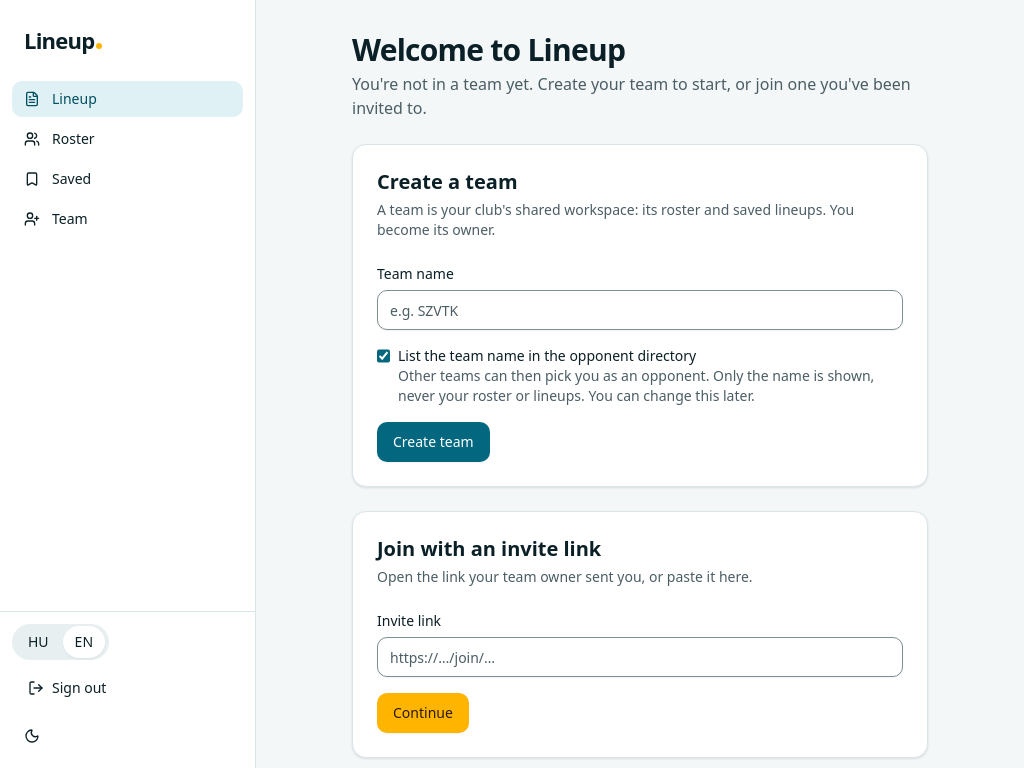
Test: pasting an invite link on the onboarding screen › rejects not a link before leaving the page
Type "not a link" into the field labelled "Invite link" at (640,657), box [377,637,903,677]
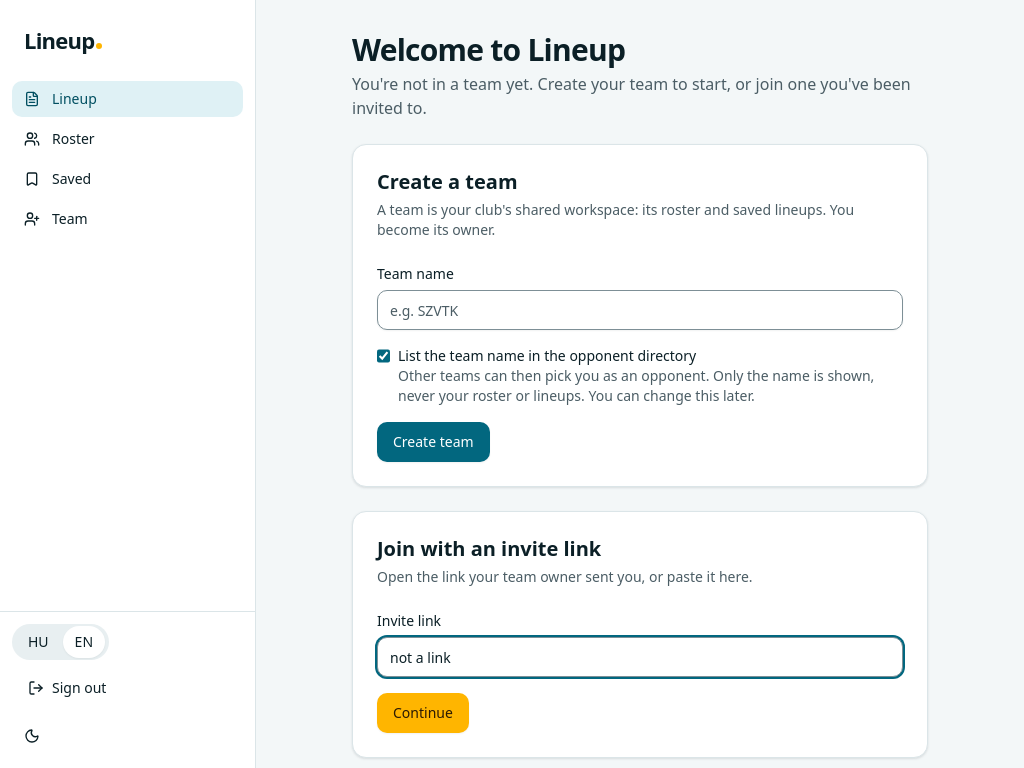
Click the button "Continue" at (423,713), box [377,693,469,733]
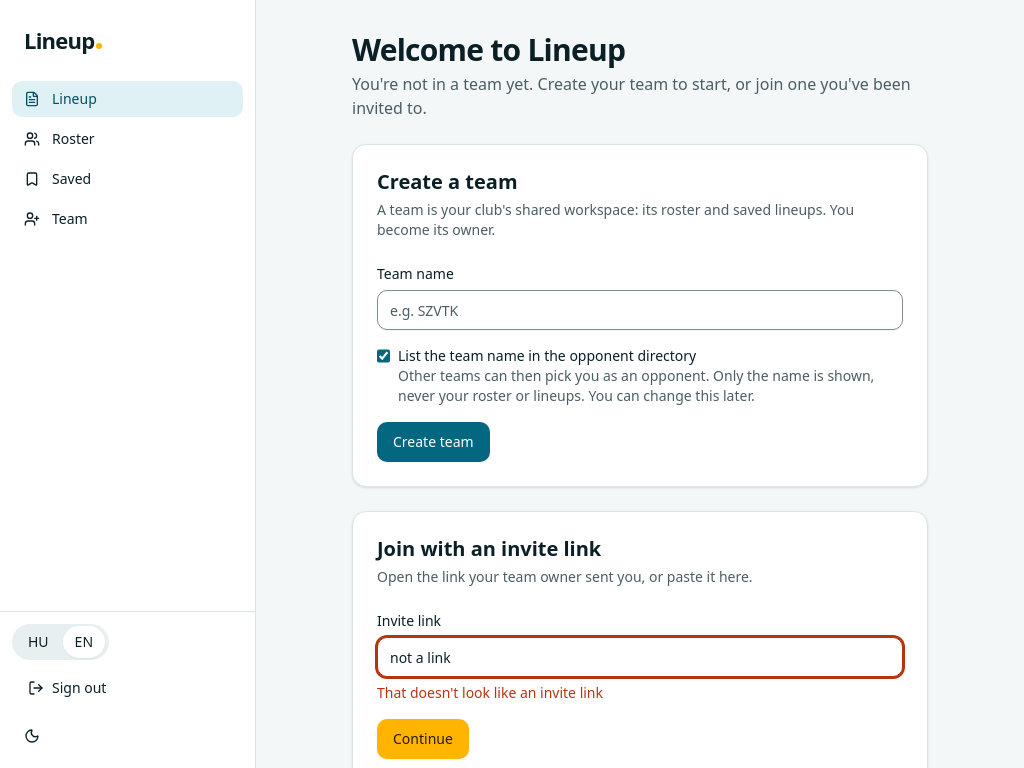
Expected: the text "That doesn't look like an invite link" is shown, [377,683,603,702]
